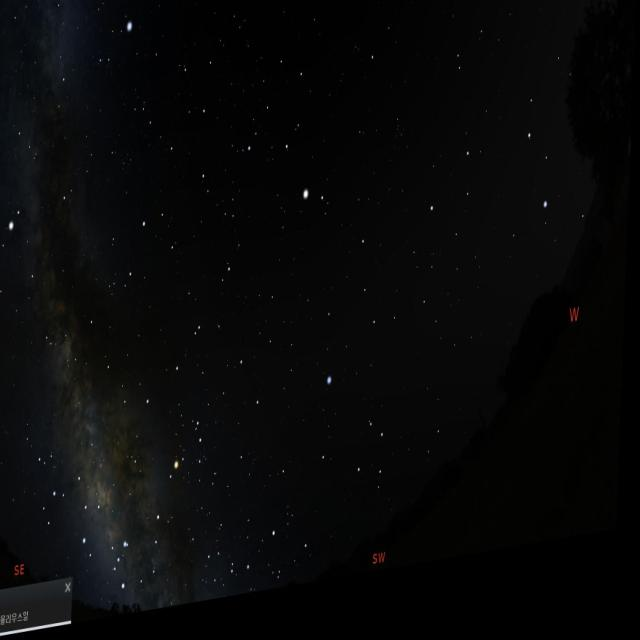aquila: (0, 172, 78, 365)
bootes: (252, 46, 338, 250)
leo: (422, 94, 574, 270)
lyra: (94, 16, 138, 86)
sagittarius: (33, 438, 118, 574)
scorpius: (116, 402, 215, 608)
